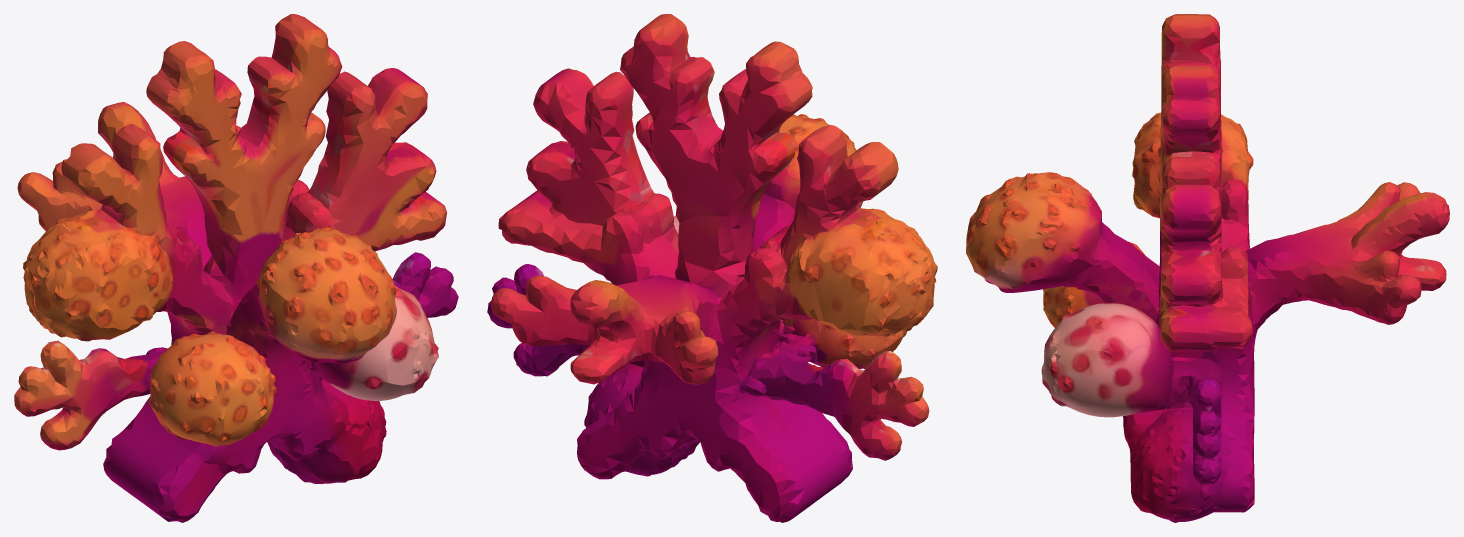
Rendered from Atlantis_CoralCluster.glb.
3 renders of one model, left to right at view 1: azimuth 30°, elevation 25°; view 2: azimuth 150°, elevation 25°; view 3: azimuth 270°, elevation 25°, orthographic. The views are drawn at different scales.
Parts seen in each view (by area): view 1: Atlantis_CoralCluster; view 2: Atlantis_CoralCluster; view 3: Atlantis_CoralCluster.
Part boxes in pixels (left/top/right/bottom): Atlantis_CoralCluster: left=14, top=14, right=458, bottom=522; Atlantis_CoralCluster: left=487, top=14, right=937, bottom=522; Atlantis_CoralCluster: left=966, top=14, right=1449, bottom=522.
Size of the model in its own units: 0.9504 by 0.95 by 0.9512.
Materials: 1 (1 with a texture image).
